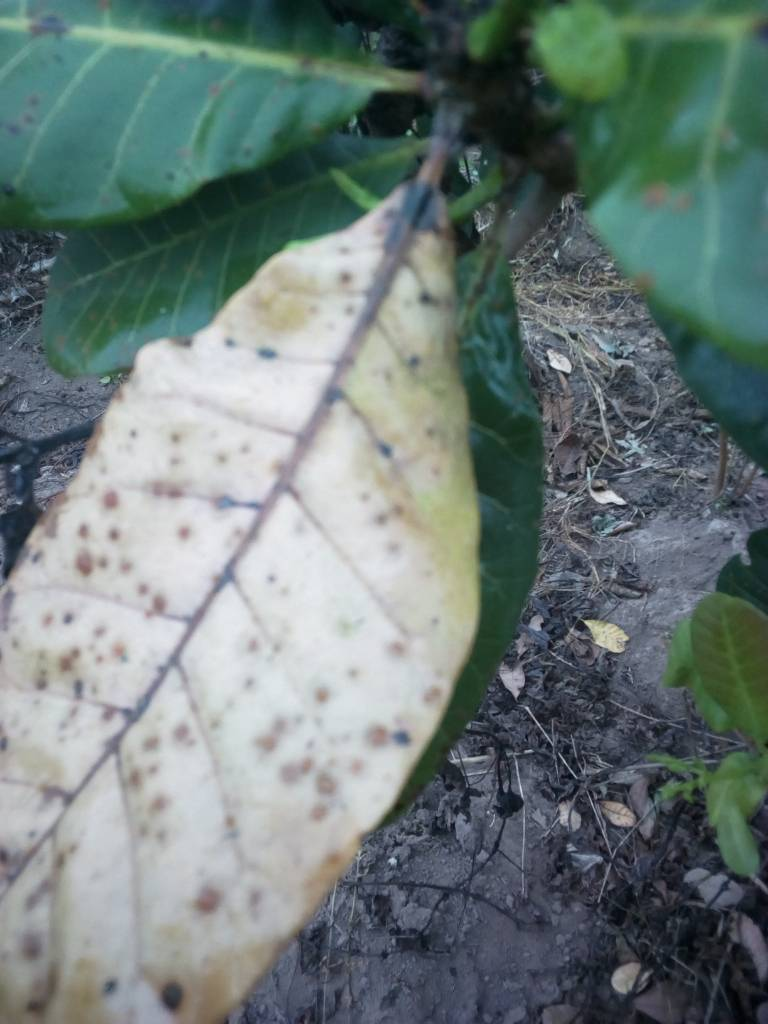Anthracnose: (1, 180, 475, 1024), (1, 1, 366, 196)
